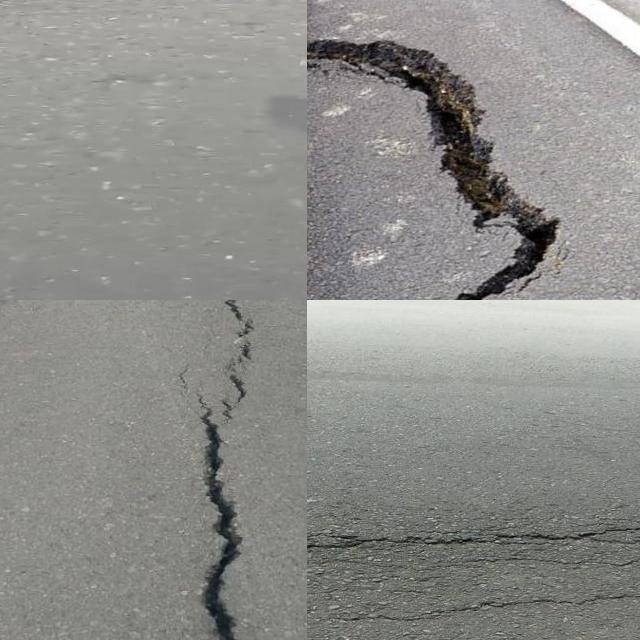Melintang: (307, 512, 640, 564), (323, 586, 640, 637)
Memanjang: (185, 300, 264, 640)
Pinggir: (307, 29, 579, 300)
